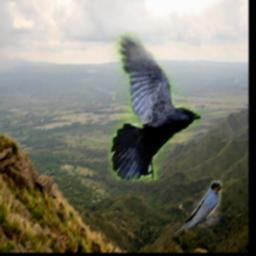Crow: (109, 33, 202, 181)
Swallow: (174, 181, 224, 236)
